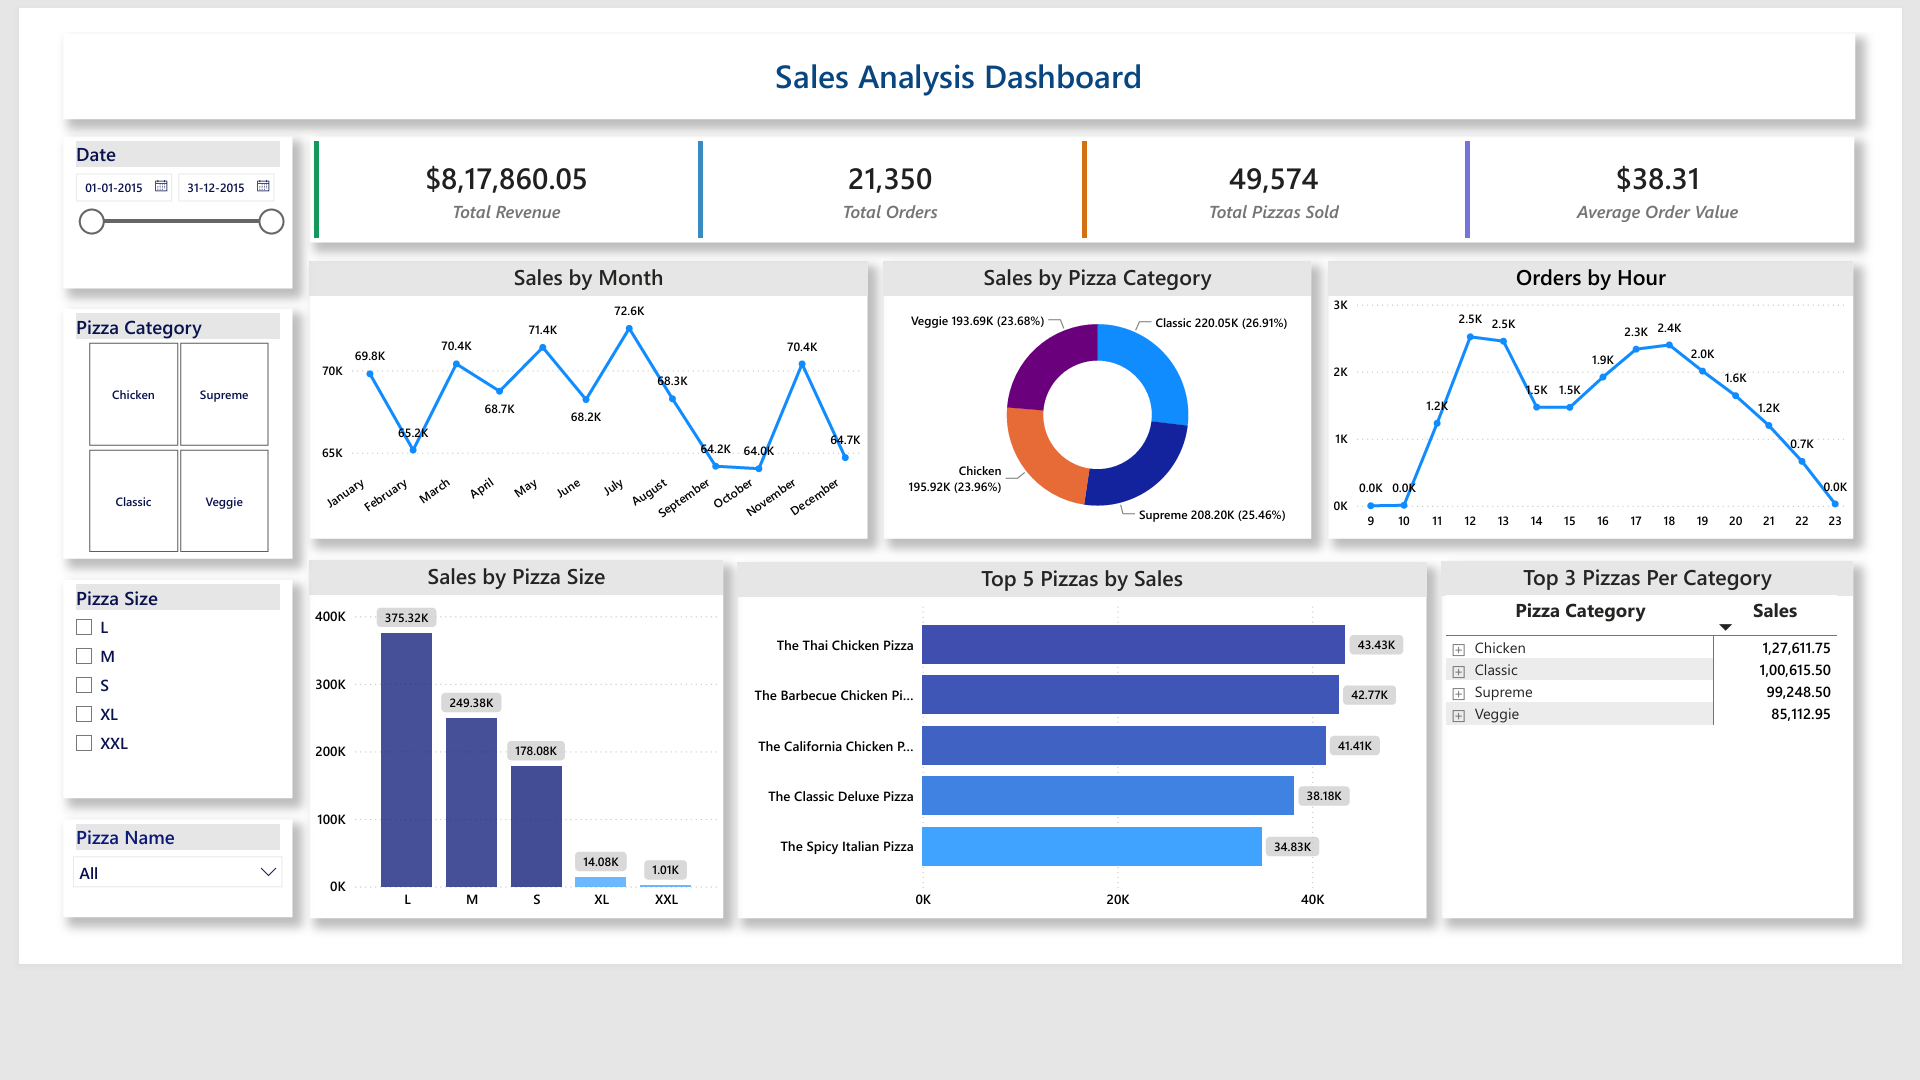

What the dashboard file says about the page in this screenshot:
{"tool":"powerbi","page":{"name":"Page 1","canvas":[1830,905],"ordinal":0},"visuals":[{"type":"lineChart","title":"Sales by Month","fields":{"Y":["Sum(pizza_sales order_details.sales)"],"Category":["Calendar.Date.Variation.Date Hierarchy.Year","Calendar.Date.Variation.Date Hierarchy.Quarter","Calendar.Date.Variation.Date Hierarchy.Month","Calendar.Date.Variation.Date Hierarchy.Day"]},"box":[265.7,228.6,557.1,277.1],"z":0},{"type":"donutChart","title":"Sales by Pizza Category","fields":{"Category":["pizza_sales pizza_types.pizza_category"],"Y":["Sum(pizza_sales order_details.sales)"]},"box":[838.6,228.6,427.1,277.1],"z":1000},{"type":"clusteredColumnChart","title":"Sales by Pizza Size","fields":{"Category":["pizza_sales pizzas.pizza_size"],"Y":["Sum(pizza_sales order_details.sales)"]},"box":[265.7,527.6,412.9,357.1],"z":2000},{"type":"clusteredBarChart","title":"Top 5 Pizzas by Sales","fields":{"Y":["Sum(pizza_sales order_details.sales)"],"Category":["pizza_sales pizza_types.pizza_name"]},"box":[692.9,530.4,688.6,354.3],"z":3000},{"type":"lineChart","title":"Orders by Hour","fields":{"Y":["CountNonNull(pizza_sales orders.order_id)"],"Category":["pizza_sales orders.order_hour"]},"box":[1282.9,228.6,524.3,277.1],"z":4000},{"type":"pivotTable","title":"Top 3 Pizzas Per Category","fields":{"Rows":["top_3_per_category.pizza_category","top_3_per_category.pizza_name"],"Values":["Sum(top_3_per_category.sales)"]},"box":[1395.7,529,411.4,355.7],"z":5000},{"type":"shape","box":[20,1.4,1788.6,85.7],"z":6000},{"type":"textbox","box":[571.4,15.7,685.7,55.7],"z":7000},{"type":"cardVisual","fields":{"Data":["pizza_sales order_details.total_revenue","pizza_sales orders.total_orders","pizza_sales order_details.total_pizzas_sold","pizza_sales order_details.average_order_value"]},"box":[266.2,103.8,1541.2,106.2],"z":8000},{"type":"slicer","fields":{"Values":["Calendar.Date"]},"box":[20,104.3,228.6,151.4],"z":9000},{"type":"slicer","fields":{"Values":["pizza_sales pizza_types.pizza_category"]},"box":[20,276.2,228.6,250],"z":10000},{"type":"slicer","fields":{"Values":["pizza_sales pizzas.pizza_size"]},"box":[20,546.7,228.6,218.6],"z":11000},{"type":"slicer","fields":{"Values":["pizza_sales pizza_types.pizza_name"]},"box":[20,785.7,228.6,98.6],"z":12000}]}

Visuals, with their boxes in screenshot pixels (x1, y1, x2, y2):
"Sales by Month" lineChart: crop(310, 258, 866, 535)
"Sales by Pizza Category" donutChart: crop(882, 258, 1308, 535)
"Sales by Pizza Size" clusteredColumnChart: crop(310, 557, 722, 913)
"Top 5 Pizzas by Sales" clusteredBarChart: crop(737, 559, 1424, 913)
"Orders by Hour" lineChart: crop(1325, 258, 1849, 535)
"Top 3 Pizzas Per Category" pivotTable: crop(1438, 558, 1848, 913)
shape: crop(65, 31, 1850, 117)
textbox: crop(615, 46, 1300, 101)
cardVisual - pizza_sales order_details.total_revenue x pizza_sales orders.total_orders: crop(311, 134, 1849, 240)
slicer - Calendar.Date: crop(65, 134, 293, 285)
slicer - pizza_sales pizza_types.pizza_category: crop(65, 306, 293, 555)
slicer - pizza_sales pizzas.pizza_size: crop(65, 576, 293, 794)
slicer - pizza_sales pizza_types.pizza_name: crop(65, 814, 293, 913)
